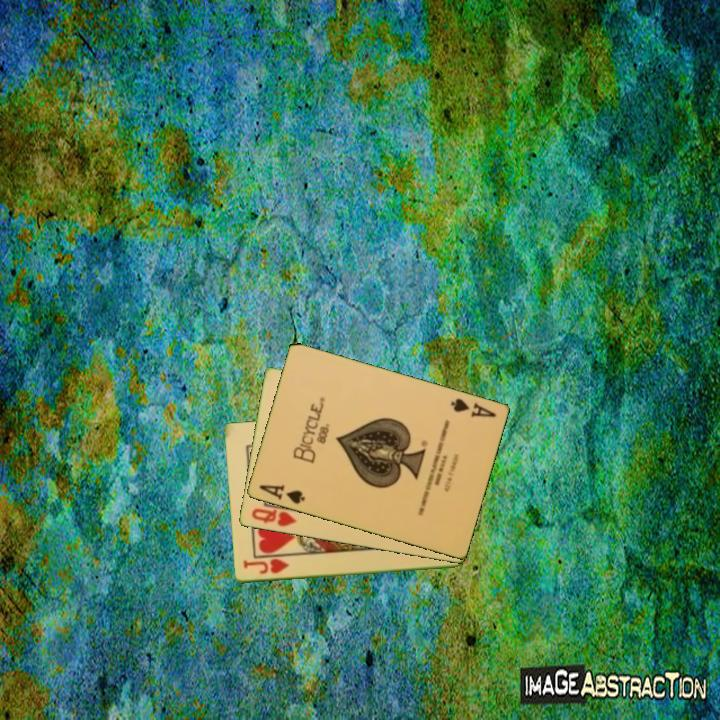As: (255, 481, 307, 507), (447, 395, 498, 420)
Jh: (240, 555, 292, 577)
Qh: (248, 503, 303, 530)
